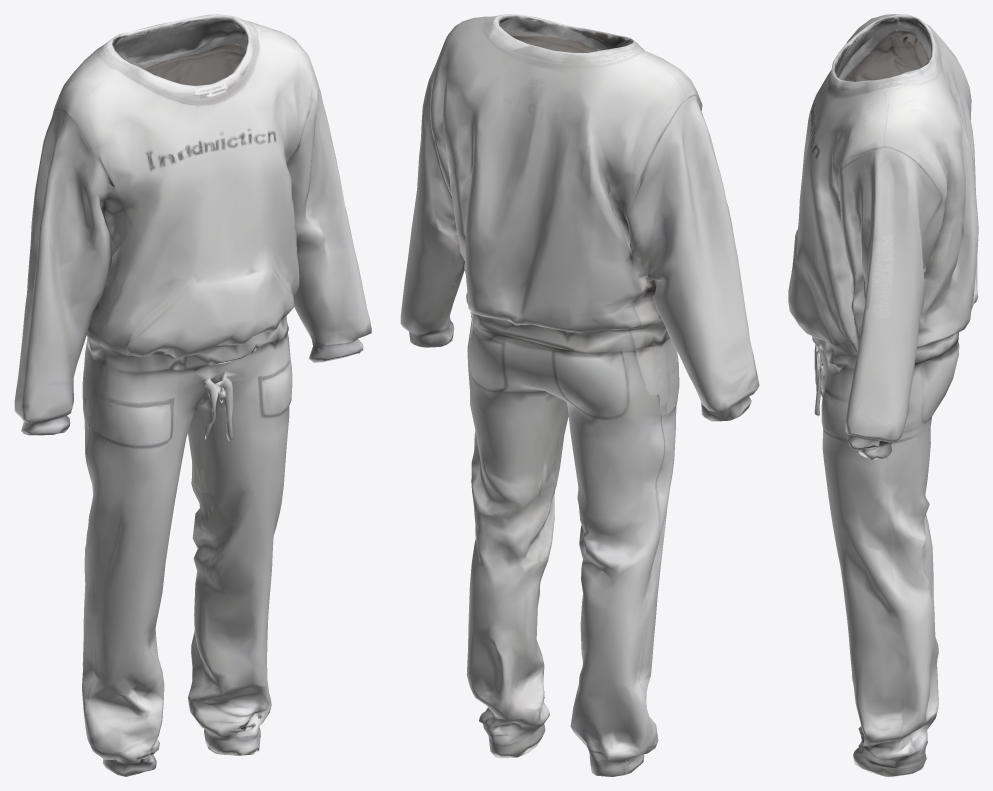
Rendered from Gray_Comfort_Ensemble_0619094515_texture.glb.
The picture shows the model from 3 angles, left to right: view 1: azimuth 30°, elevation 25°; view 2: azimuth 150°, elevation 25°; view 3: azimuth 270°, elevation 25°; orthographic projection. The views are drawn at different scales.
Size of the model in its own units: 0.9918 by 1.99 by 0.4914.
Materials: 1 (1 with a texture image).
